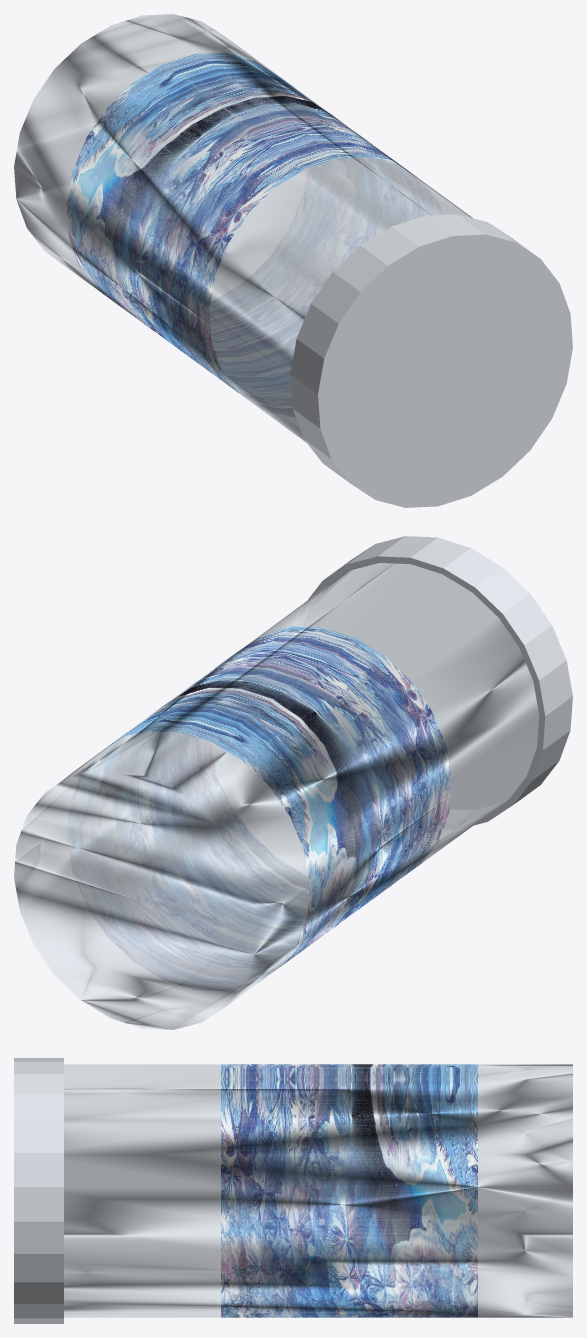
File: model_align.obj
The picture shows the model from 3 angles, top to bottom: view 1: azimuth 30°, elevation 25°; view 2: azimuth 150°, elevation 25°; view 3: azimuth 270°, elevation 25°; orthographic projection. The views are drawn at different scales.
Bounding box in the file's own units: 0.118 × 0.118 × 0.2485.
